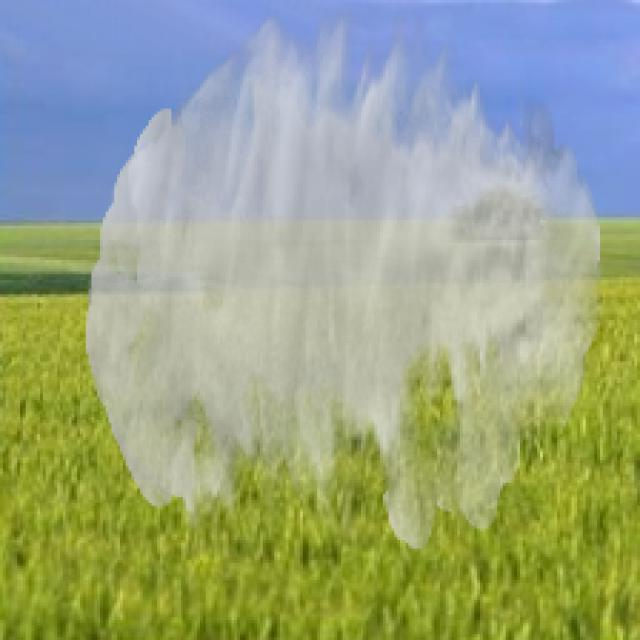Smoke: (86, 9, 603, 552)
